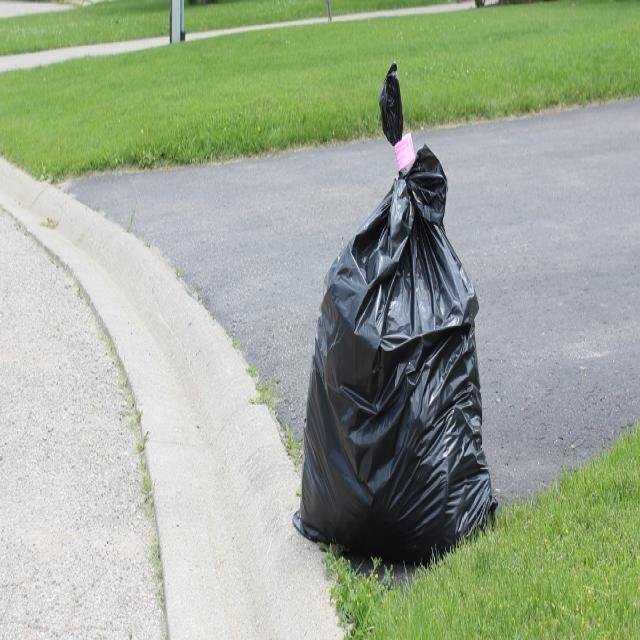Trashbag: (285, 60, 511, 572)
